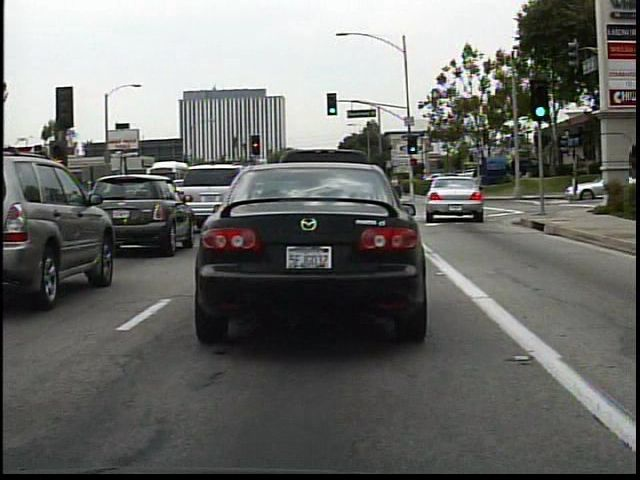person: (389, 173, 407, 202)
